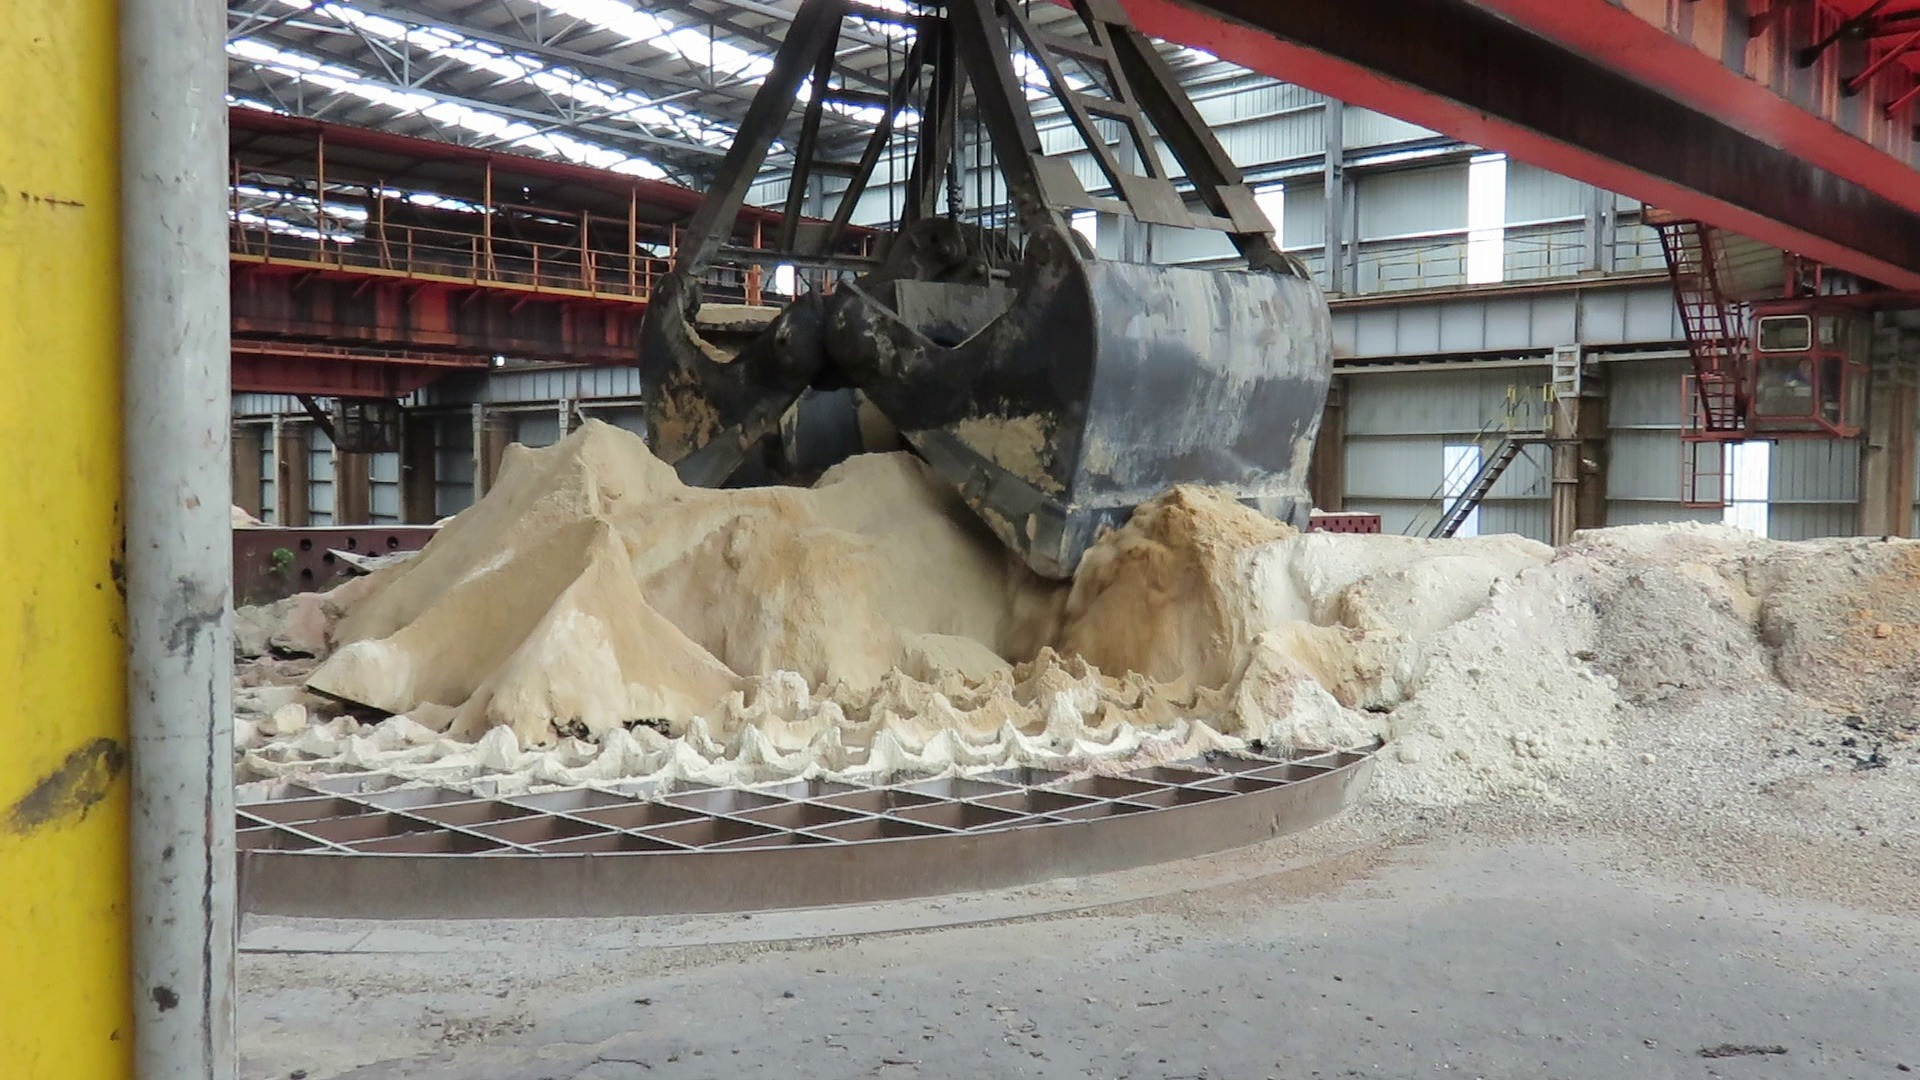grab: (626, 0, 1346, 597)
